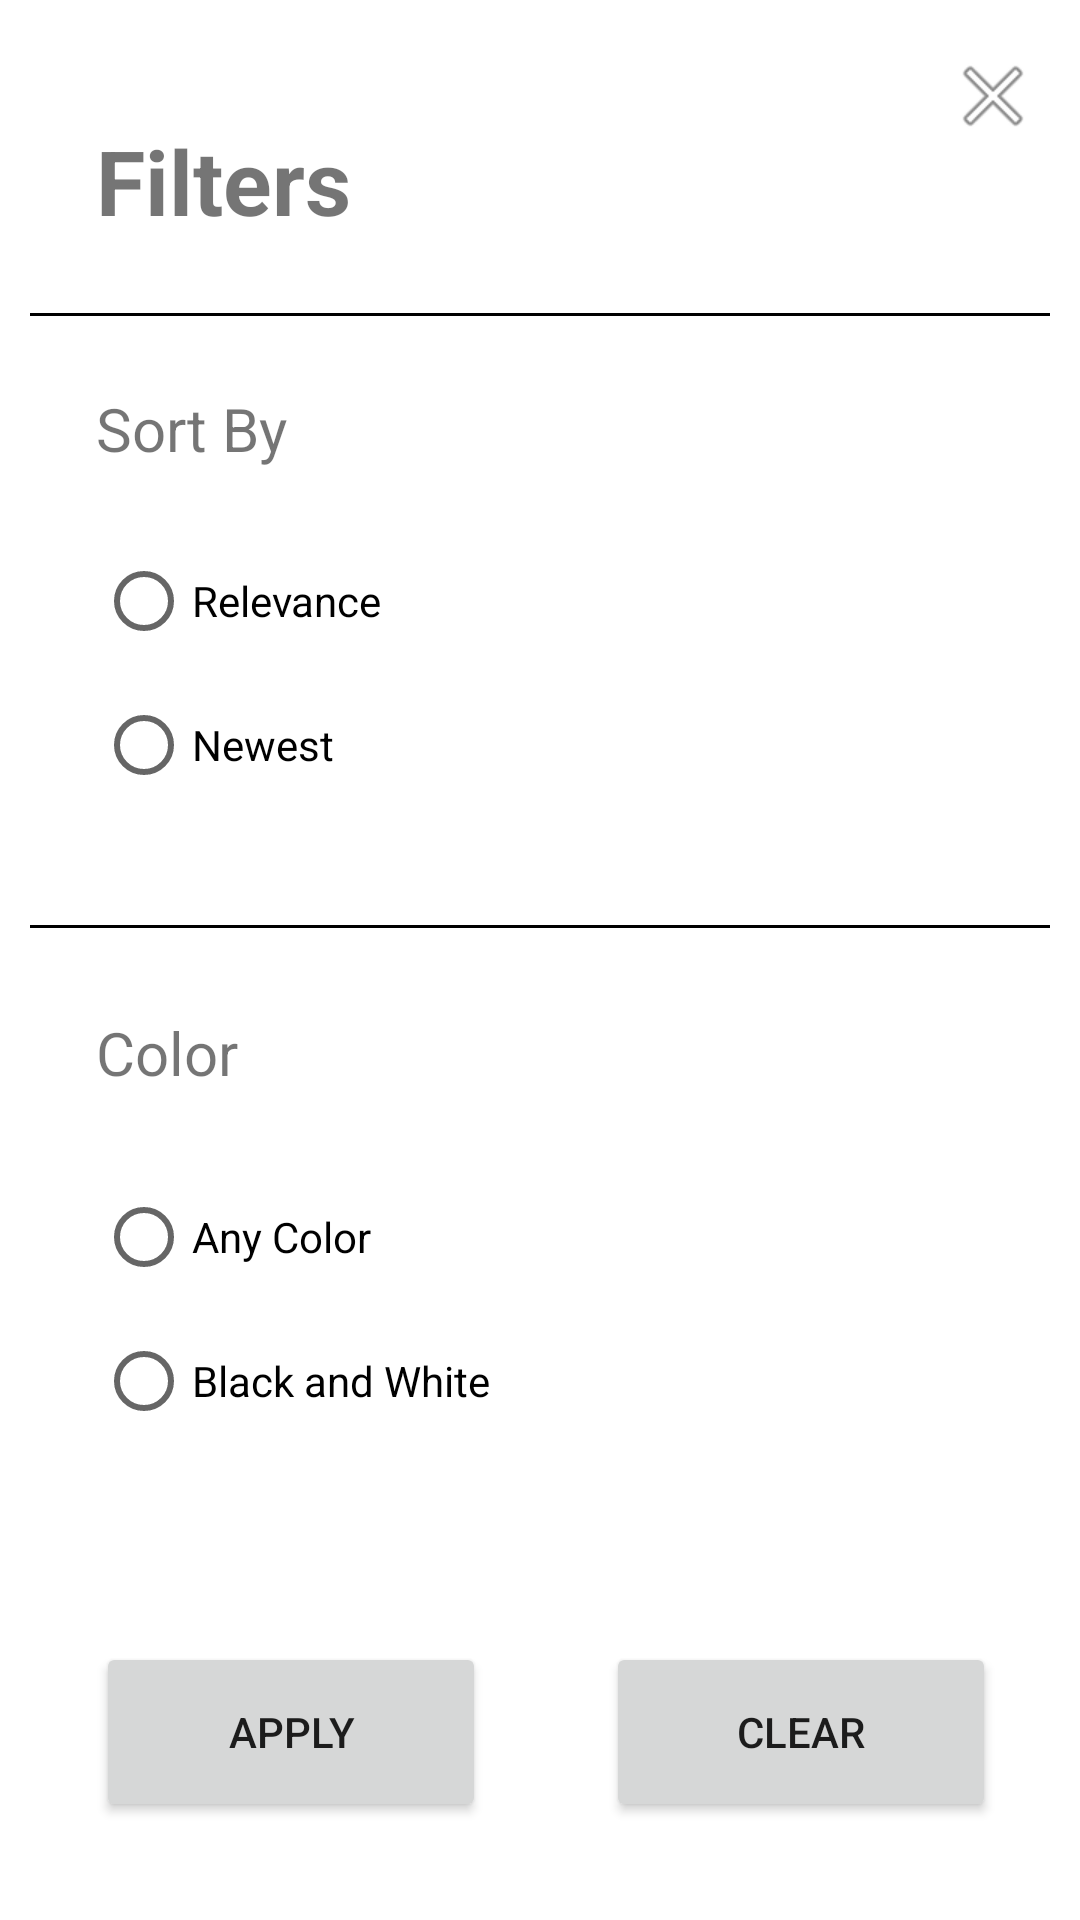

Screen size 1080w x 1920h. Icon name, then its box in pixels as (x1, y1, x2, y2):
close clear cancel: (963, 66, 1023, 126)
